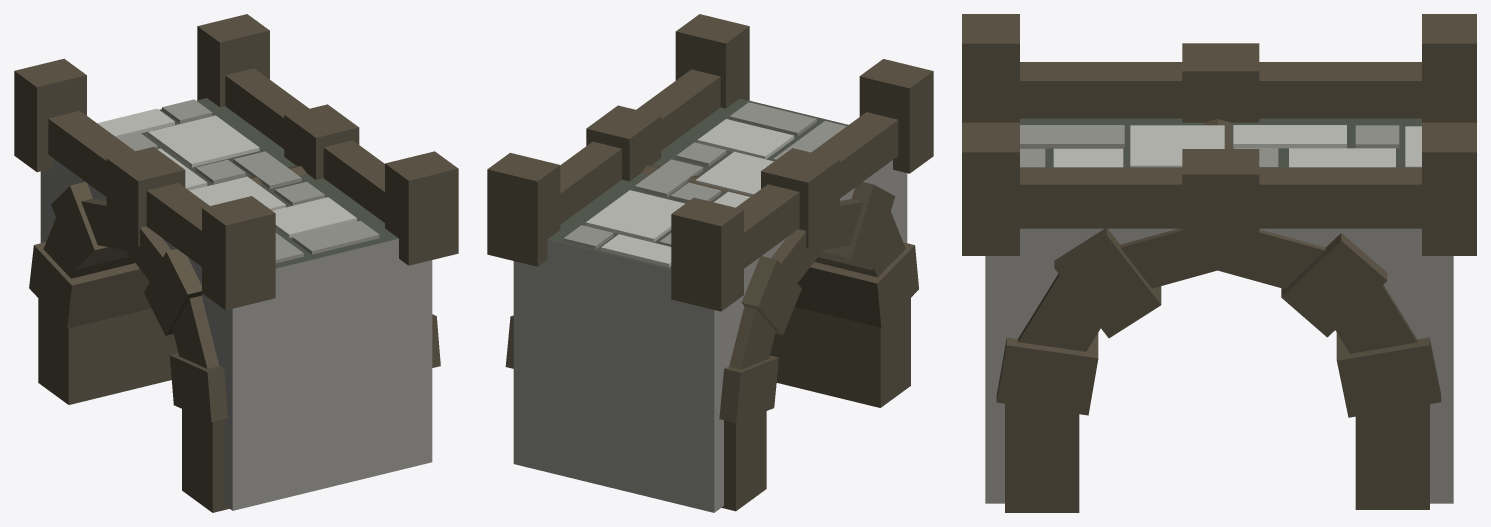
Rendered from stonebridge_straight.fbx.
The picture shows the model from 3 angles, left to right: view 1: azimuth 30°, elevation 25°; view 2: azimuth 150°, elevation 25°; view 3: azimuth 270°, elevation 25°; orthographic projection. The views are drawn at different scales.
Visible parts, largest first — view 1: polySurface101; view 2: polySurface101; view 3: polySurface101.
Part boxes in pixels (<box>): polySurface101: <box>14,14,458,512</box>; polySurface101: <box>487,14,933,512</box>; polySurface101: <box>962,14,1476,512</box>.
Size of the model in its own units: 70 by 86.6 by 110.
Materials: 1 (1 with a texture image).
